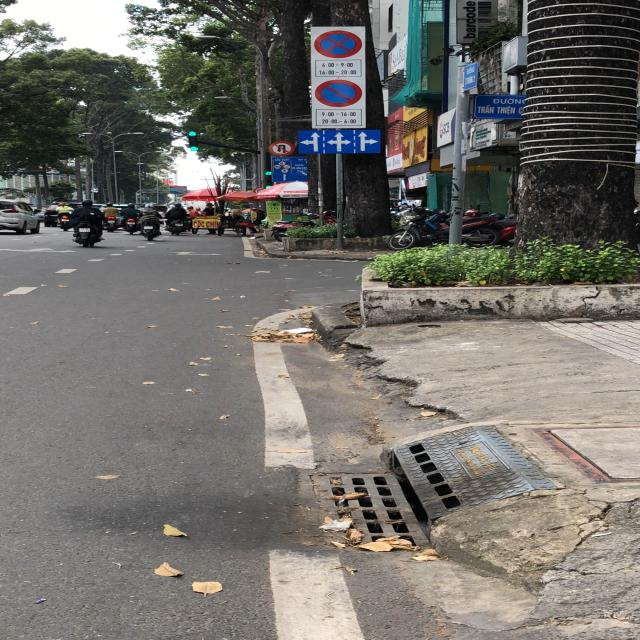Bien bao cam do xe: (313, 79, 362, 108)
Bien bao cam dung xe va do xe: (313, 27, 364, 58)
Bien bao cam quay dau xe: (266, 139, 300, 159)
